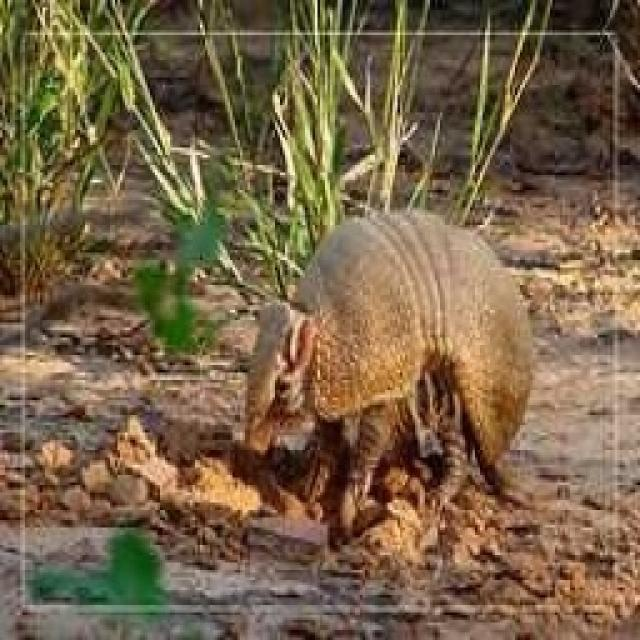not_pig: (237, 205, 535, 545)
